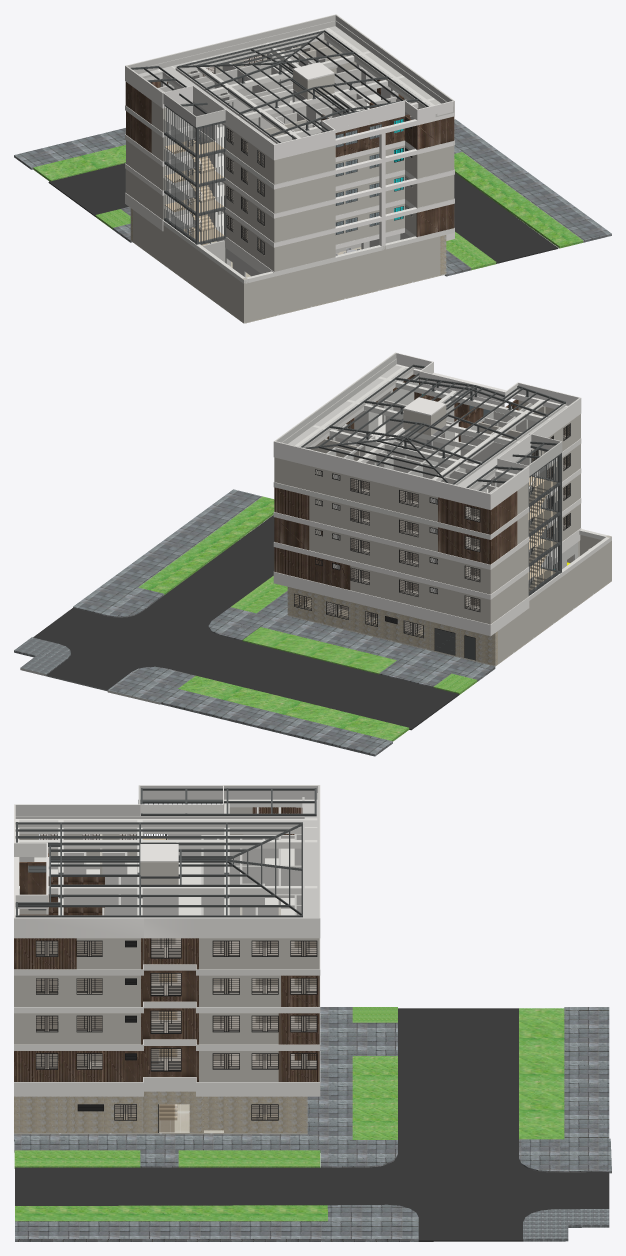
Rendered from 20 JULIO-2.glb.
3 renders of one model, top to bottom at view 1: azimuth 30°, elevation 25°; view 2: azimuth 150°, elevation 25°; view 3: azimuth 270°, elevation 25°, orthographic. The views are drawn at different scales.
Parts seen in each view (by area): view 1: Subentidad.001, Sólido 3D.2361, Sólido 3D.006, Sólido 3D.001, Sólido 3D.2890, 413 Solapa VA cubierta, Sólido 3D.3383, Sólido 3D.2875, Subentidad.003, Sólido 3D.3381, Sólido 3D.2411, Sólido 3D.004 (+51 smaller); view 2: Subentidad.001, Sólido 3D.007, Subentidad.003, 413 Solapa VA cubierta, Sólido 3D.006, Sólido 3D.004, 413 Solapa VA 2do piso, Sólido 3D.001, Sólido 3D.2361, Sólido 3D.003, Sólido 3D.3383, Sólido 3D.2411 (+33 smaller); view 3: Subentidad.001, Sólido 3D.007, Sólido 3D.006, Subentidad.003, 413 Solapa VA cubierta, Sólido 3D.004, Sólido 3D.001, 413 Solapa VA 2do piso, Sólido 3D.2361, Sólido 3D.2410, Sólido 3D.2411, Sólido 3D.003 (+46 smaller).
Part boxes in pixels (x1,y1,x2,y2): Subentidad.001: [48, 163, 558, 263]; Sólido 3D.2361: [133, 20, 454, 144]; Sólido 3D.006: [454, 119, 611, 242]; Sólido 3D.001: [454, 152, 583, 248]; Sólido 3D.2890: [314, 250, 381, 305]; 413 Solapa VA cubierta: [125, 14, 454, 159]; Sólido 3D.3383: [274, 100, 453, 155]; Sólido 3D.2875: [386, 236, 440, 287]; Subentidad.003: [14, 128, 125, 169]; Sólido 3D.3381: [126, 14, 336, 127]; Sólido 3D.2411: [215, 37, 402, 132]; Sólido 3D.004: [33, 145, 125, 181]; Subentidad.001: [33, 515, 459, 730]; Sólido 3D.007: [208, 591, 495, 687]; Subentidad.003: [108, 666, 392, 756]; 413 Solapa VA cubierta: [273, 352, 581, 509]; Sólido 3D.006: [73, 489, 262, 617]; Sólido 3D.004: [178, 675, 409, 741]; 413 Solapa VA 2do piso: [273, 528, 581, 636]; Sólido 3D.001: [138, 496, 274, 594]; Sólido 3D.2361: [282, 358, 566, 488]; Sólido 3D.003: [242, 627, 396, 674]; Sólido 3D.3383: [396, 353, 580, 405]; Sólido 3D.2411: [320, 373, 529, 467]; Subentidad.001: [15, 1008, 609, 1241]; Sólido 3D.007: [14, 1007, 397, 1167]; Sólido 3D.006: [15, 1204, 418, 1241]; Subentidad.003: [519, 1007, 611, 1173]; 413 Solapa VA cubierta: [14, 785, 320, 938]; Sólido 3D.004: [519, 1008, 564, 1139]; Sólido 3D.001: [15, 1205, 327, 1221]; 413 Solapa VA 2do piso: [14, 1051, 320, 1096]; Sólido 3D.2361: [15, 793, 317, 917]; Sólido 3D.2410: [15, 829, 288, 907]; Sólido 3D.2411: [35, 836, 288, 907]; Sólido 3D.003: [352, 1056, 397, 1139].
Size of the model in its own units: 36.47 by 17.31 by 39.64.
1941 materials, 5 textured.
